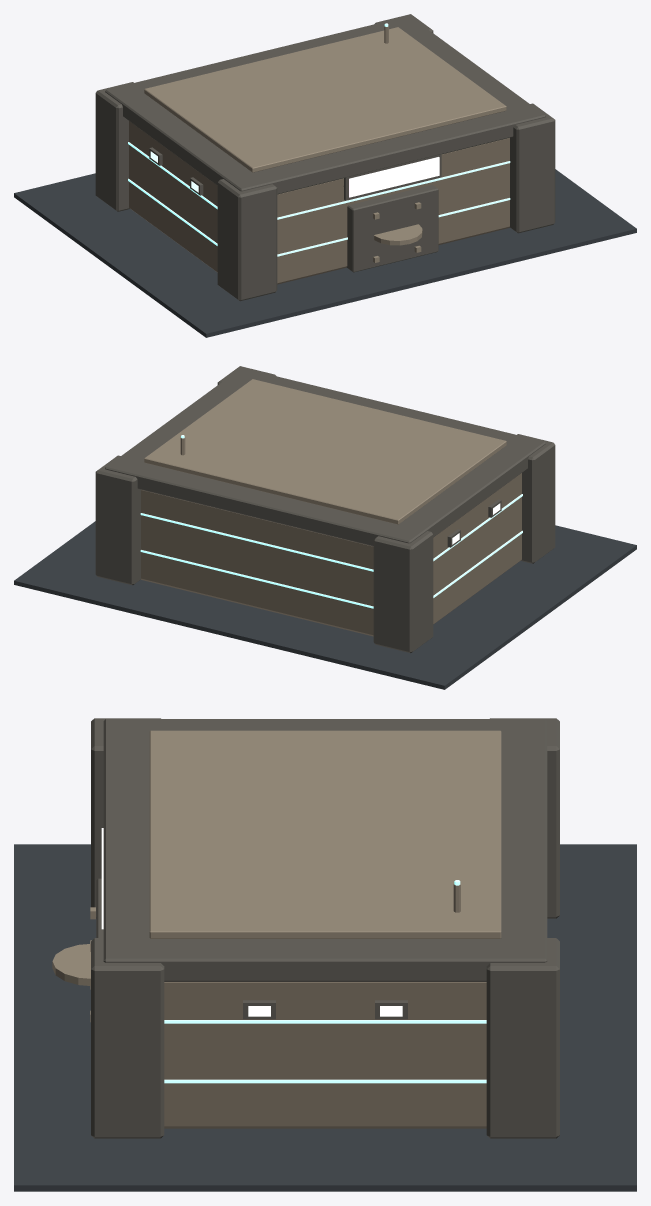
File: data_vault.glb
3 renders of one model, top to bottom at view 1: azimuth 30°, elevation 25°; view 2: azimuth 150°, elevation 25°; view 3: azimuth 270°, elevation 25°, orthographic. The views are drawn at different scales.
Visible parts, largest first — view 1: data_vault_DarkAlloy@industrial, data_vault_Steel@industrial, data_vault_Asphalt, data_vault_Concrete@industrial, data_vault_Violet, data_vault_Cyan; view 2: data_vault_DarkAlloy@industrial, data_vault_Steel@industrial, data_vault_Asphalt, data_vault_Concrete@industrial, data_vault_Cyan; view 3: data_vault_Asphalt, data_vault_Steel@industrial, data_vault_DarkAlloy@industrial, data_vault_Concrete@industrial, data_vault_Cyan.
Part boxes in pixels (left/top/right/bottom): data_vault_DarkAlloy@industrial: left=95, top=14, right=555, bottom=301; data_vault_Steel@industrial: left=144, top=26, right=506, bottom=262; data_vault_Asphalt: left=14, top=169, right=636, bottom=337; data_vault_Concrete@industrial: left=129, top=121, right=509, bottom=284; data_vault_Violet: left=349, top=157, right=439, bottom=197; data_vault_Cyan: left=128, top=23, right=510, bottom=256; data_vault_DarkAlloy@industrial: left=95, top=366, right=555, bottom=653; data_vault_Steel@industrial: left=144, top=379, right=506, bottom=524; data_vault_Asphalt: left=14, top=521, right=636, bottom=689; data_vault_Concrete@industrial: left=141, top=473, right=521, bottom=636; data_vault_Cyan: left=140, top=435, right=522, bottom=608; data_vault_Asphalt: left=14, top=844, right=636, bottom=1191; data_vault_Steel@industrial: left=52, top=730, right=501, bottom=1022; data_vault_DarkAlloy@industrial: left=91, top=718, right=559, bottom=1138; data_vault_Concrete@industrial: left=164, top=982, right=486, bottom=1128; data_vault_Cyan: left=164, top=880, right=486, bottom=1083.
Bounding box in the file's own units: 22 × 6.65 × 17.
